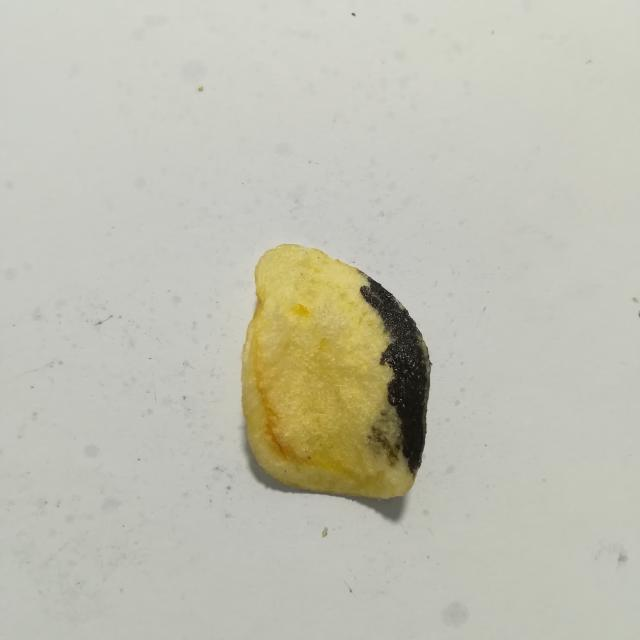chip: (241, 245, 431, 498)
damaged: (360, 277, 431, 480)
semi-damaged: (368, 401, 402, 466)
